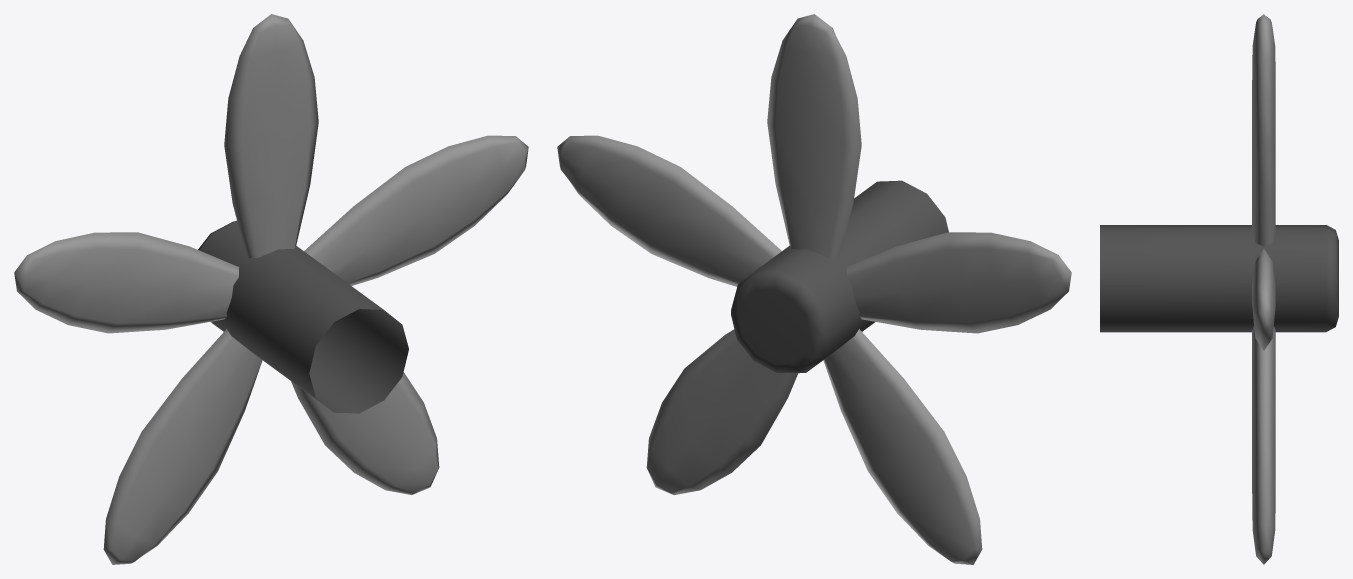
Rendered from obstacle_15_004.fbx.
3 views of the same model, side by side, from view 1: azimuth 30°, elevation 25°; view 2: azimuth 150°, elevation 25°; view 3: azimuth 270°, elevation 25° (orthographic). The views are drawn at different scales.
Parts seen in each view (by area): view 1: obstacle_15_004; view 2: obstacle_15_004; view 3: obstacle_15_004.
Boxes of the visible parts, x1,y1,x2,y2 form: obstacle_15_004: (14, 14, 528, 564); obstacle_15_004: (557, 14, 1071, 564); obstacle_15_004: (1100, 14, 1338, 564).
Size of the model in its own units: 245 by 105 by 234.
